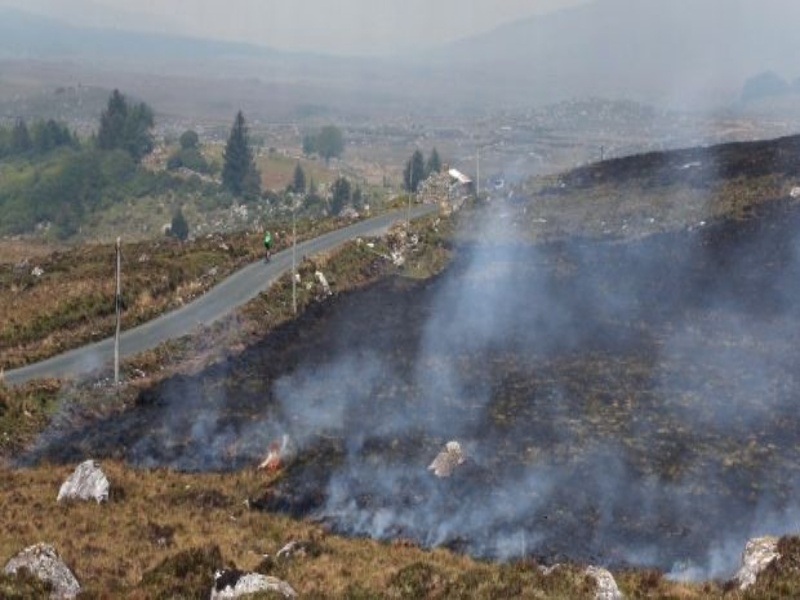smoke: (367, 276, 727, 562)
